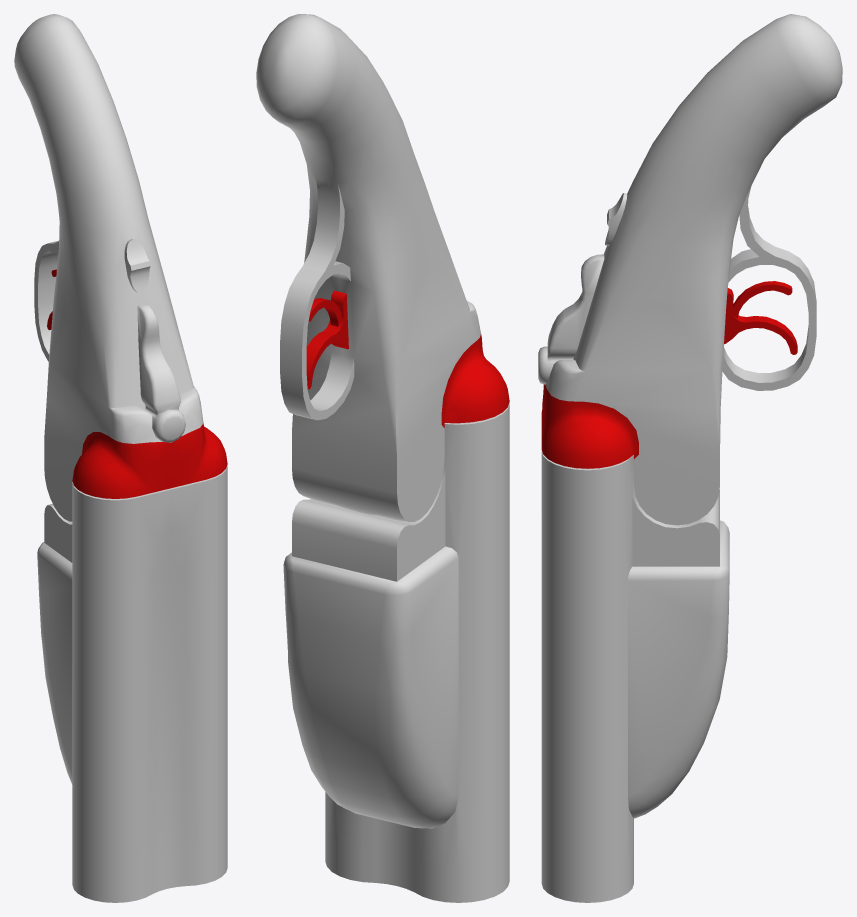
File: WeaponSawedoffShotgun.fbx
The picture shows the model from 3 angles, left to right: view 1: azimuth 30°, elevation 25°; view 2: azimuth 150°, elevation 25°; view 3: azimuth 270°, elevation 25°; orthographic projection. The views are drawn at different scales.
Visible parts, largest first — view 1: Barrel DOUBLE LowPoly, BASE Stock LowPoly.001; view 2: Barrel DOUBLE LowPoly, BASE Stock LowPoly.001; view 3: BASE Stock LowPoly.001, Barrel DOUBLE LowPoly.
Part boxes in pixels (x1,y1,x2,y2): Barrel DOUBLE LowPoly: (37, 465, 227, 902); BASE Stock LowPoly.001: (14, 14, 227, 521); Barrel DOUBLE LowPoly: (283, 402, 509, 902); BASE Stock LowPoly.001: (256, 14, 509, 521); BASE Stock LowPoly.001: (538, 14, 842, 525); Barrel DOUBLE LowPoly: (541, 450, 729, 902).
Bounding box in the file's own units: 10.8 × 56.71 × 18.42.
